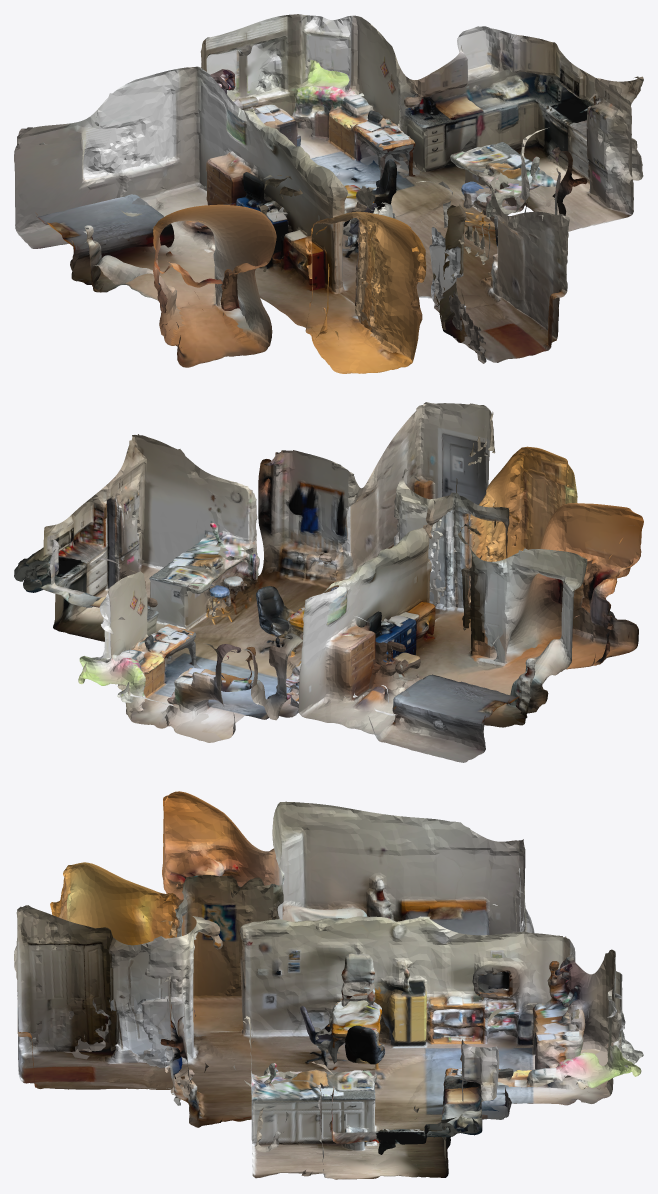
The model's file is chris.glb.
The picture shows the model from 3 angles, top to bottom: view 1: azimuth 30°, elevation 25°; view 2: azimuth 150°, elevation 25°; view 3: azimuth 270°, elevation 25°; orthographic projection. The views are drawn at different scales.
Bounding box in the file's own units: 10.44 × 2.96 × 10.72.
Materials: 1 (1 with a texture image).
